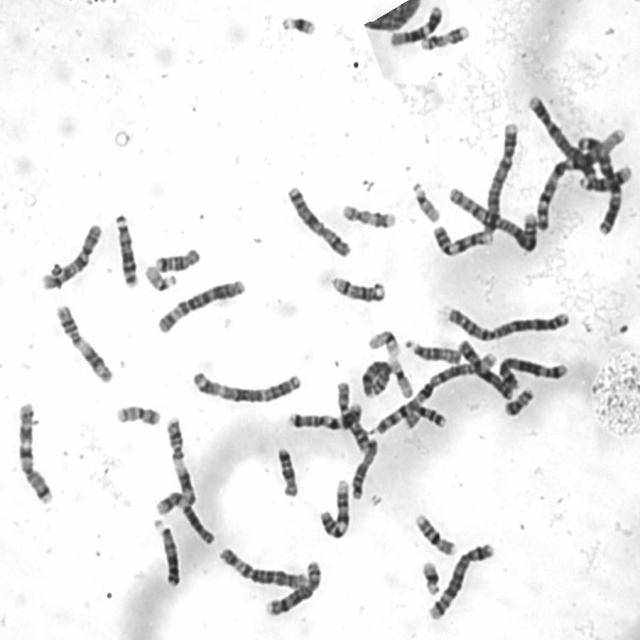A1: (370, 347, 499, 435), (533, 123, 631, 233)
A2: (444, 182, 539, 254), (441, 300, 575, 343)
A3: (573, 130, 625, 237), (189, 368, 304, 406)
B4: (525, 90, 604, 183), (479, 119, 519, 240)
B5: (425, 538, 496, 621), (494, 353, 571, 398)
C10: (38, 218, 105, 291), (336, 381, 371, 454)
C11: (52, 302, 116, 385), (163, 413, 198, 507)
C12: (153, 489, 217, 547), (385, 2, 445, 48)
C6: (153, 275, 246, 336), (215, 544, 309, 590)
C7: (13, 398, 57, 507), (284, 400, 365, 432)
C8: (262, 556, 324, 618), (359, 358, 393, 399)
C9: (431, 220, 495, 258), (318, 476, 352, 540)
D13: (151, 516, 183, 589), (111, 210, 140, 289)
D14: (328, 272, 387, 304), (576, 163, 634, 192)
D15: (348, 436, 379, 502), (402, 335, 462, 366)
E16: (410, 508, 460, 557), (398, 401, 448, 430)
E17: (339, 199, 399, 231), (418, 21, 472, 51)
E18: (273, 443, 300, 499), (152, 244, 202, 273)
F19: (387, 354, 415, 400), (364, 326, 402, 358)
F20: (112, 400, 164, 428), (502, 384, 536, 416)
G21: (418, 556, 444, 598), (278, 11, 318, 36)
G22: (408, 176, 442, 225), (142, 261, 178, 293)
X: (284, 182, 354, 259), (457, 335, 516, 401)
